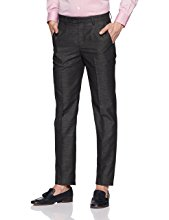Trousers: (45, 6, 129, 192)
